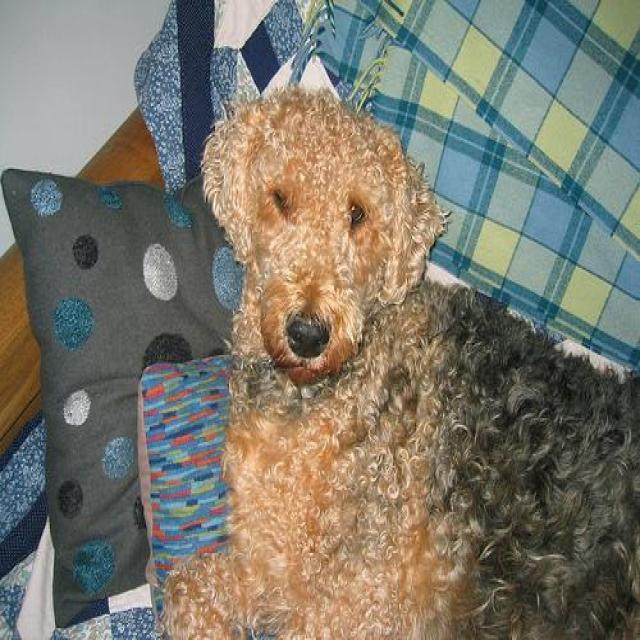airedale: (166, 84, 639, 636)
